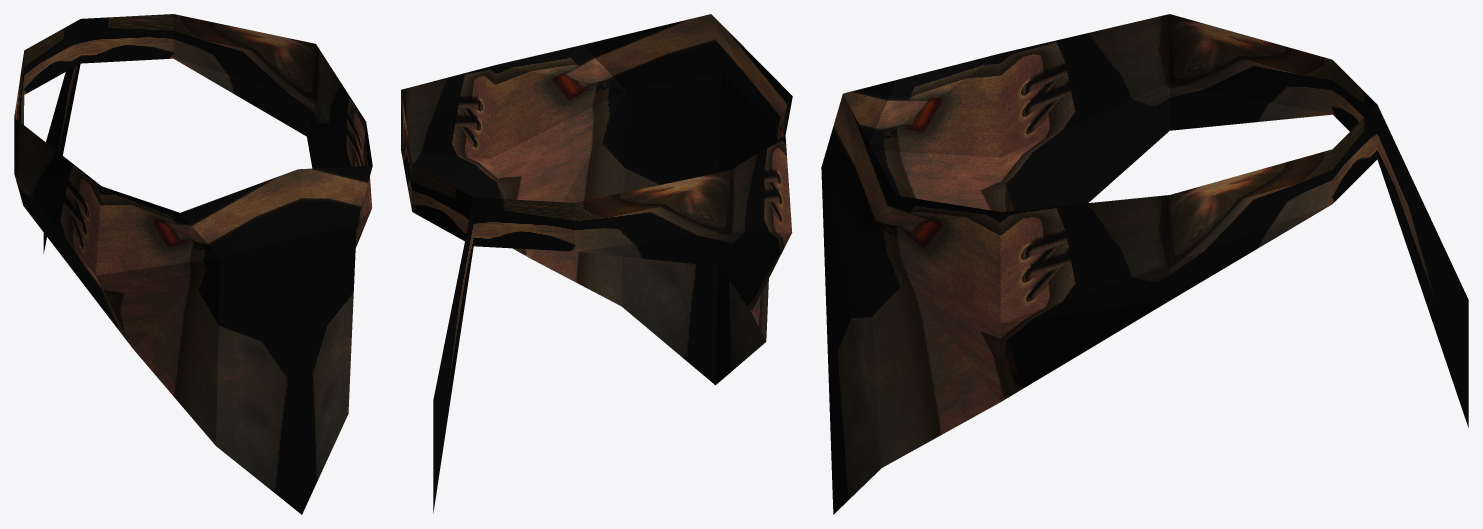
Rendered from chusta.obj.
3 views of the same model, side by side, from view 1: azimuth 30°, elevation 25°; view 2: azimuth 150°, elevation 25°; view 3: azimuth 270°, elevation 25° (orthographic). The views are drawn at different scales.
Size of the model in its own units: 10.56 by 11.46 by 15.96.
